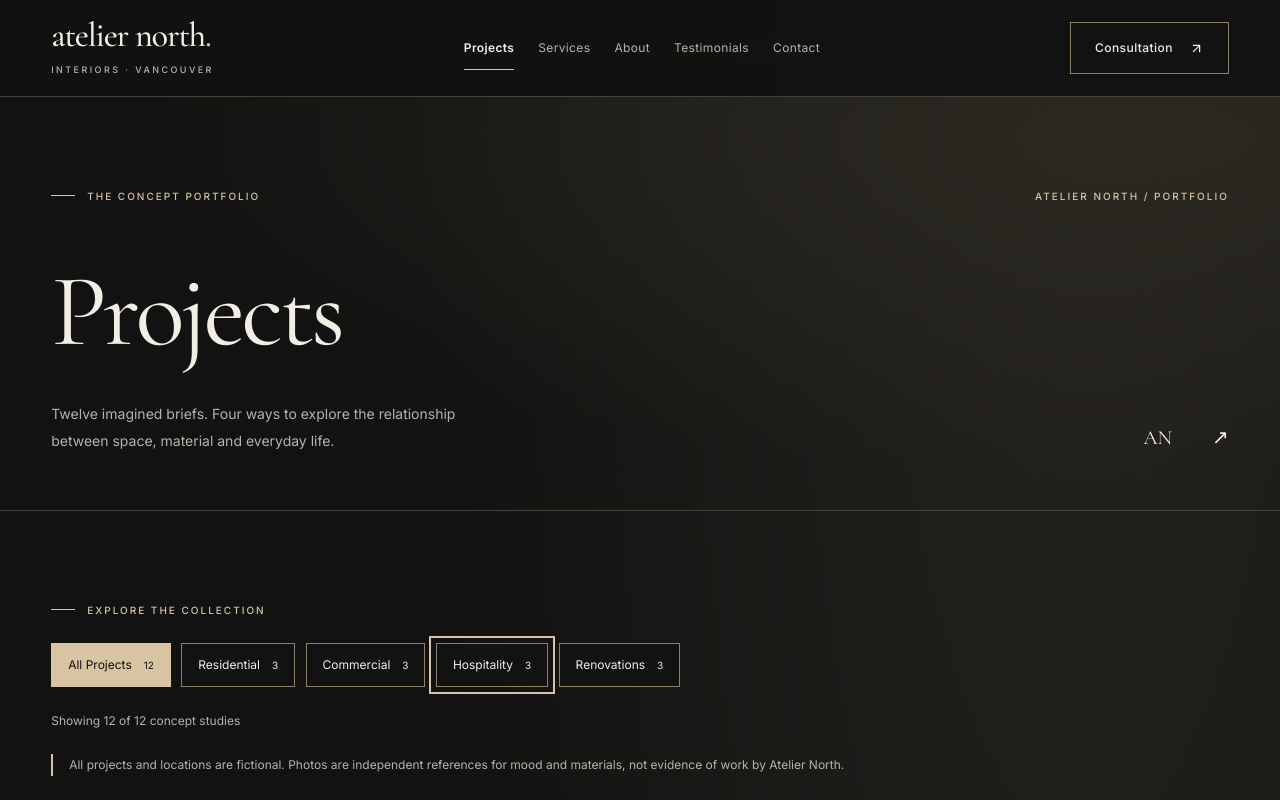
project category filters › selects Hospitality with the right cards, count and active state
Expected: the heading "Projects" is shown, [51, 249, 342, 373]
Click the button "Hospitality 3" at (492, 665), box [436, 643, 548, 687]
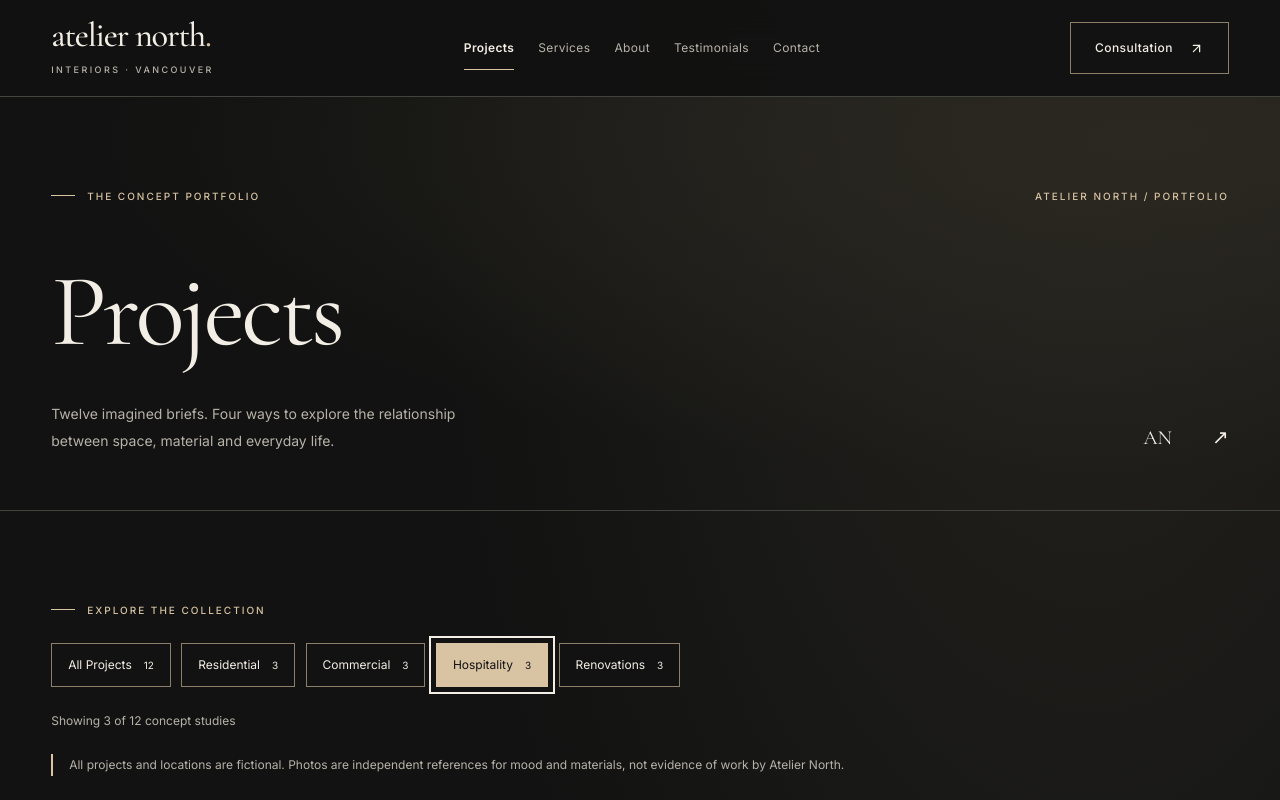
Expected: the message shows "Showing 3 of 12", [51, 713, 236, 728]
Click the button "All Projects 12" at (111, 665), box [51, 643, 171, 687]
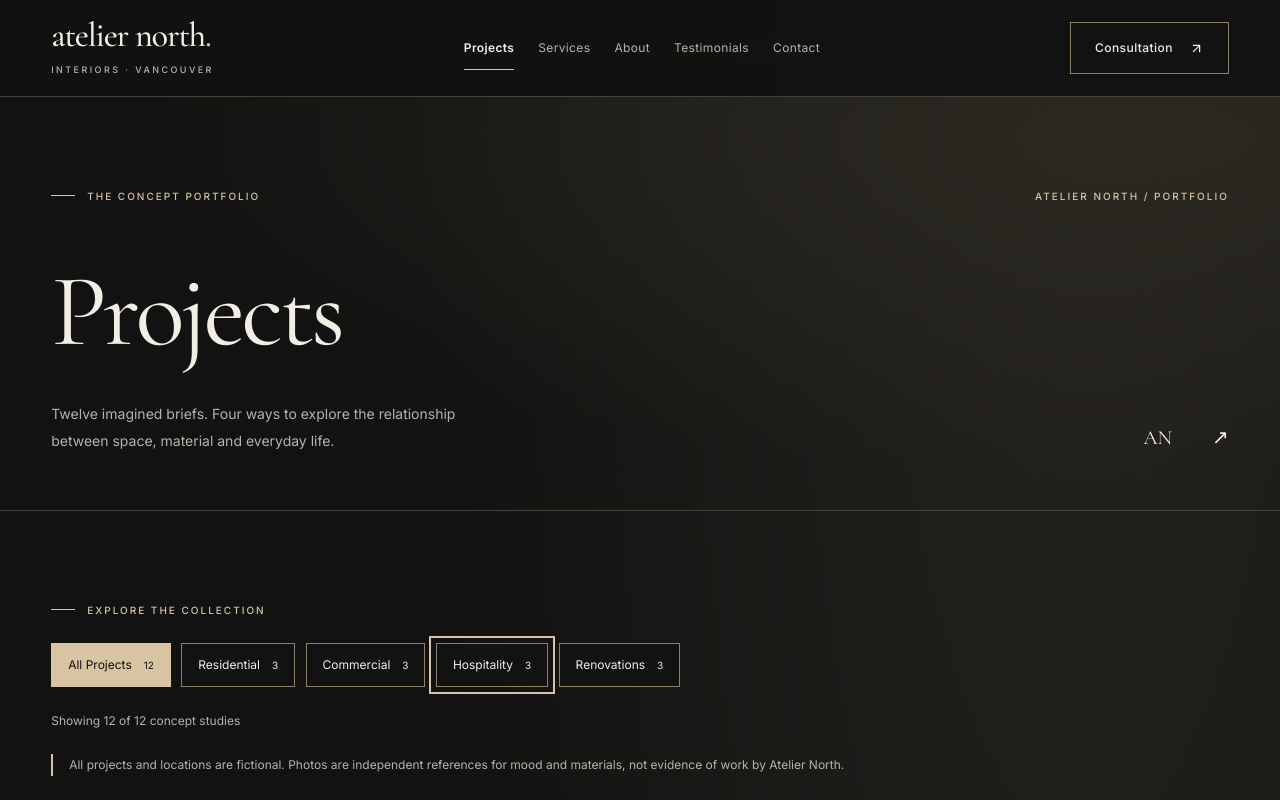
Expected: the message shows "Showing 12 of 12", [51, 713, 240, 728]
